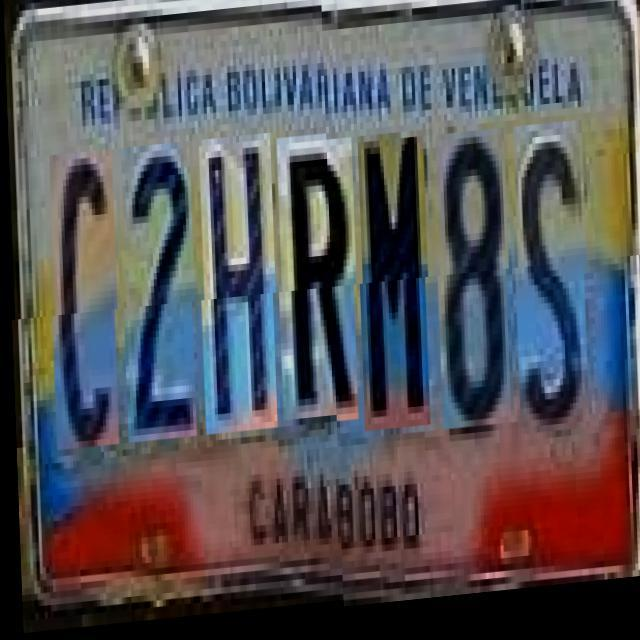2: (120, 152, 197, 452)
8: (434, 138, 511, 438)
C: (48, 158, 119, 458)
H: (198, 145, 278, 445)
M: (356, 138, 430, 438)
R: (275, 144, 358, 432)
S: (512, 132, 588, 446)
